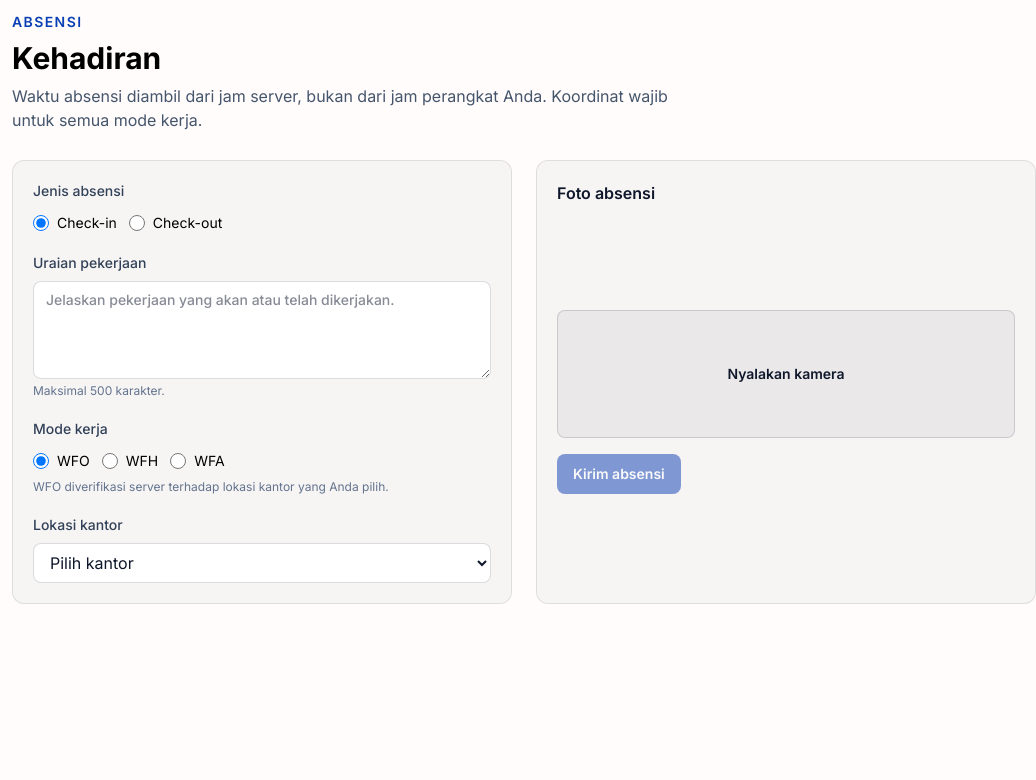
it: CheckInPage › offers the fallback upload when camera permission is denied
Click the button "Nyalakan kamera". click: (786, 374)
box: [557,310,1015,438]
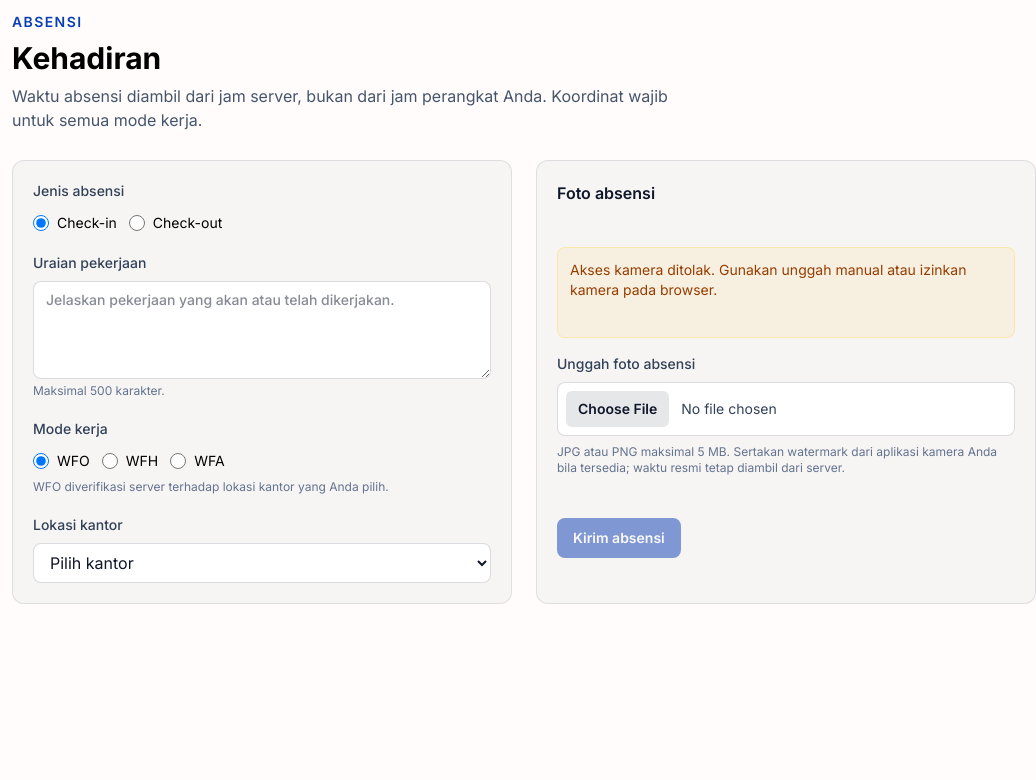
Expected: the message shows "Akses kamera ditolak", [570,260,966,298]
Expected: the file field labelled "Unggah foto absensi" is shown, [557,382,1015,436]
